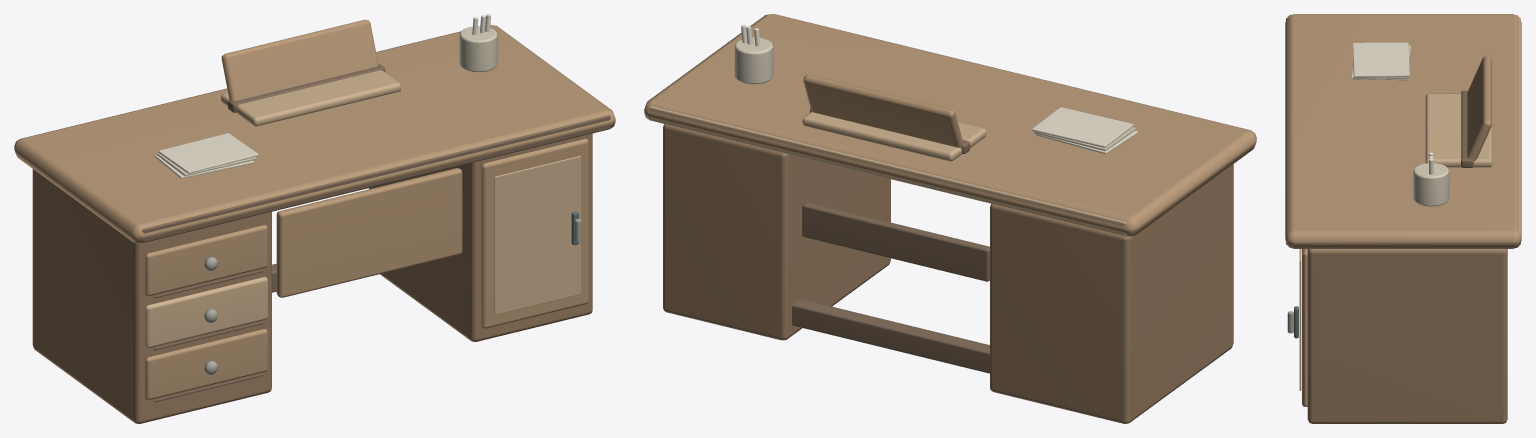
Rendered from classroom_teacher_lectern.glb.
The picture shows the model from 3 angles, left to right: view 1: azimuth 30°, elevation 25°; view 2: azimuth 150°, elevation 25°; view 3: azimuth 270°, elevation 25°; orthographic projection. The views are drawn at different scales.
Parts seen in each view (by area): view 1: Lectern_top, Left_pedestal_body, Lectern_front_modesty_panel, Right_cupboard_inset, Right_cupboard_body, Lectern_reading_rest_face, Right_cupboard_door, Left_drawer_front_0, Left_drawer_front_1, Left_drawer_front_2, Lectern_front_edge, Lectern_reading_rest_base (+3 smaller); view 2: Lectern_top, Left_pedestal_body, Right_cupboard_body, Lectern_knee_space_back_rail, Lectern_reading_rest_face, Lectern_lower_stretcher, Lectern_rear_edge, Lectern_reading_rest_base, Lectern_paper_2, Lectern_chalk_cup; view 3: Lectern_top, Right_cupboard_body, Lectern_reading_rest_base, Lectern_reading_rest_face, Lectern_paper_2, Lectern_chalk_cup, Right_cupboard_door, Lectern_reading_rest_lip, Lectern_front_edge, Lectern_rear_edge, Right_cupboard_inset.
Boxes of the visible parts, left/top/right/bottom form: Lectern_top: left=14, top=24, right=615, bottom=243; Left_pedestal_body: left=32, top=169, right=271, bottom=423; Lectern_front_modesty_panel: left=276, top=168, right=462, bottom=297; Right_cupboard_inset: left=494, top=156, right=580, bottom=315; Right_cupboard_body: left=369, top=133, right=592, bottom=341; Lectern_reading_rest_face: left=221, top=19, right=378, bottom=100; Right_cupboard_door: left=481, top=138, right=588, bottom=328; Left_drawer_front_0: left=145, top=225, right=267, bottom=295; Left_drawer_front_1: left=145, top=277, right=267, bottom=347; Left_drawer_front_2: left=145, top=329, right=267, bottom=399; Lectern_front_edge: left=142, top=115, right=610, bottom=242; Lectern_reading_rest_base: left=221, top=70, right=400, bottom=126; Lectern_top: left=644, top=14, right=1256, bottom=236; Left_pedestal_body: left=990, top=164, right=1233, bottom=423; Right_cupboard_body: left=663, top=124, right=890, bottom=340; Lectern_knee_space_back_rail: left=802, top=202, right=989, bottom=281; Lectern_reading_rest_face: left=803, top=74, right=963, bottom=147; Lectern_lower_stretcher: left=792, top=299, right=989, bottom=373; Lectern_rear_edge: left=649, top=106, right=1126, bottom=235; Lectern_reading_rest_base: left=802, top=112, right=986, bottom=161; Lectern_paper_2: left=1032, top=107, right=1133, bottom=147; Lectern_chalk_cup: left=734, top=37, right=773, bottom=84; Lectern_top: left=1285, top=14, right=1521, bottom=248; Right_cupboard_body: left=1307, top=249, right=1507, bottom=423; Lectern_reading_rest_base: left=1425, top=93, right=1492, bottom=167; Lectern_reading_rest_face: left=1467, top=55, right=1491, bottom=161; Lectern_paper_2: left=1353, top=42, right=1409, bottom=77; Lectern_chalk_cup: left=1413, top=163, right=1449, bottom=206; Right_cupboard_door: left=1302, top=249, right=1307, bottom=406; Lectern_reading_rest_lip: left=1461, top=90, right=1473, bottom=167; Lectern_front_edge: left=1286, top=17, right=1287, bottom=245; Lectern_rear_edge: left=1519, top=17, right=1520, bottom=245; Right_cupboard_inset: left=1299, top=249, right=1301, bottom=390.
Bounding box in the file's own units: 1.9 × 0.9855 × 0.85.
